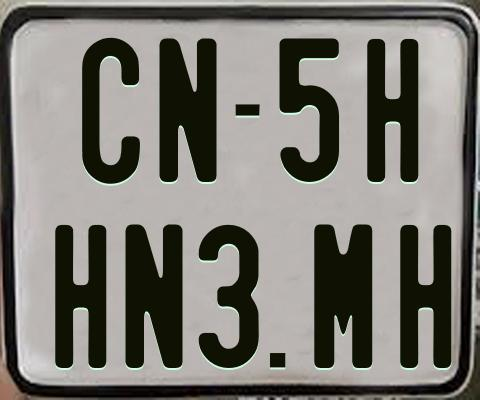3: (197, 222, 258, 368)
5: (276, 35, 342, 181)
C: (79, 35, 137, 182)
H: (53, 224, 109, 371), (367, 36, 422, 185), (398, 222, 450, 367)
M: (313, 221, 372, 366)
N: (156, 36, 216, 180), (124, 224, 184, 368)
